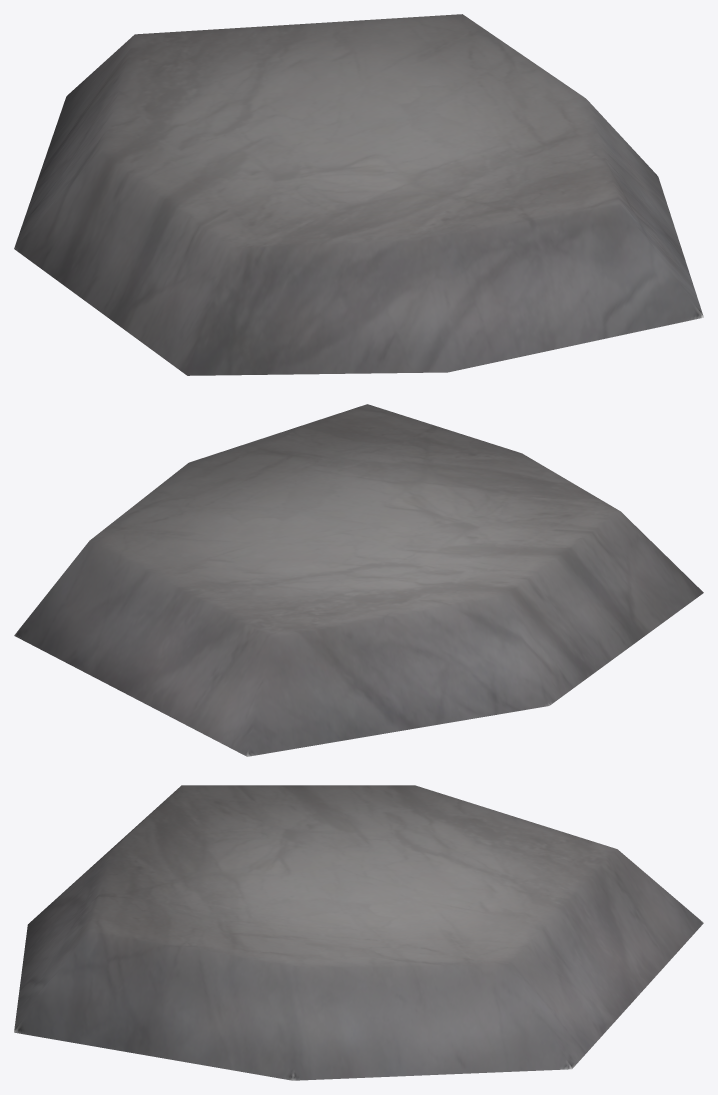
Rendered from stone3.fbx.
3 renders of one model, top to bottom at view 1: azimuth 30°, elevation 25°; view 2: azimuth 150°, elevation 25°; view 3: azimuth 270°, elevation 25°, orthographic. The views are drawn at different scales.
Visible parts, largest first — view 1: steppingStone3; view 2: steppingStone3; view 3: steppingStone3.
Part boxes in pixels (x1=…): steppingStone3: x1=14, y1=14, x2=703, y2=375; steppingStone3: x1=14, y1=404, x2=703, y2=756; steppingStone3: x1=14, y1=785, x2=703, y2=1080.
Bounding box in the file's own units: 3.19 × 0.5056 × 3.83.
Materials: 1 (1 with a texture image).
